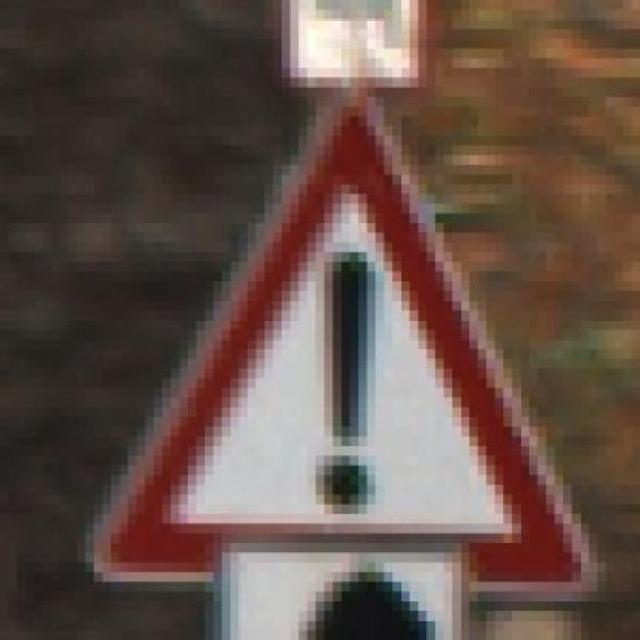Attention Please-: (93, 78, 615, 612)
